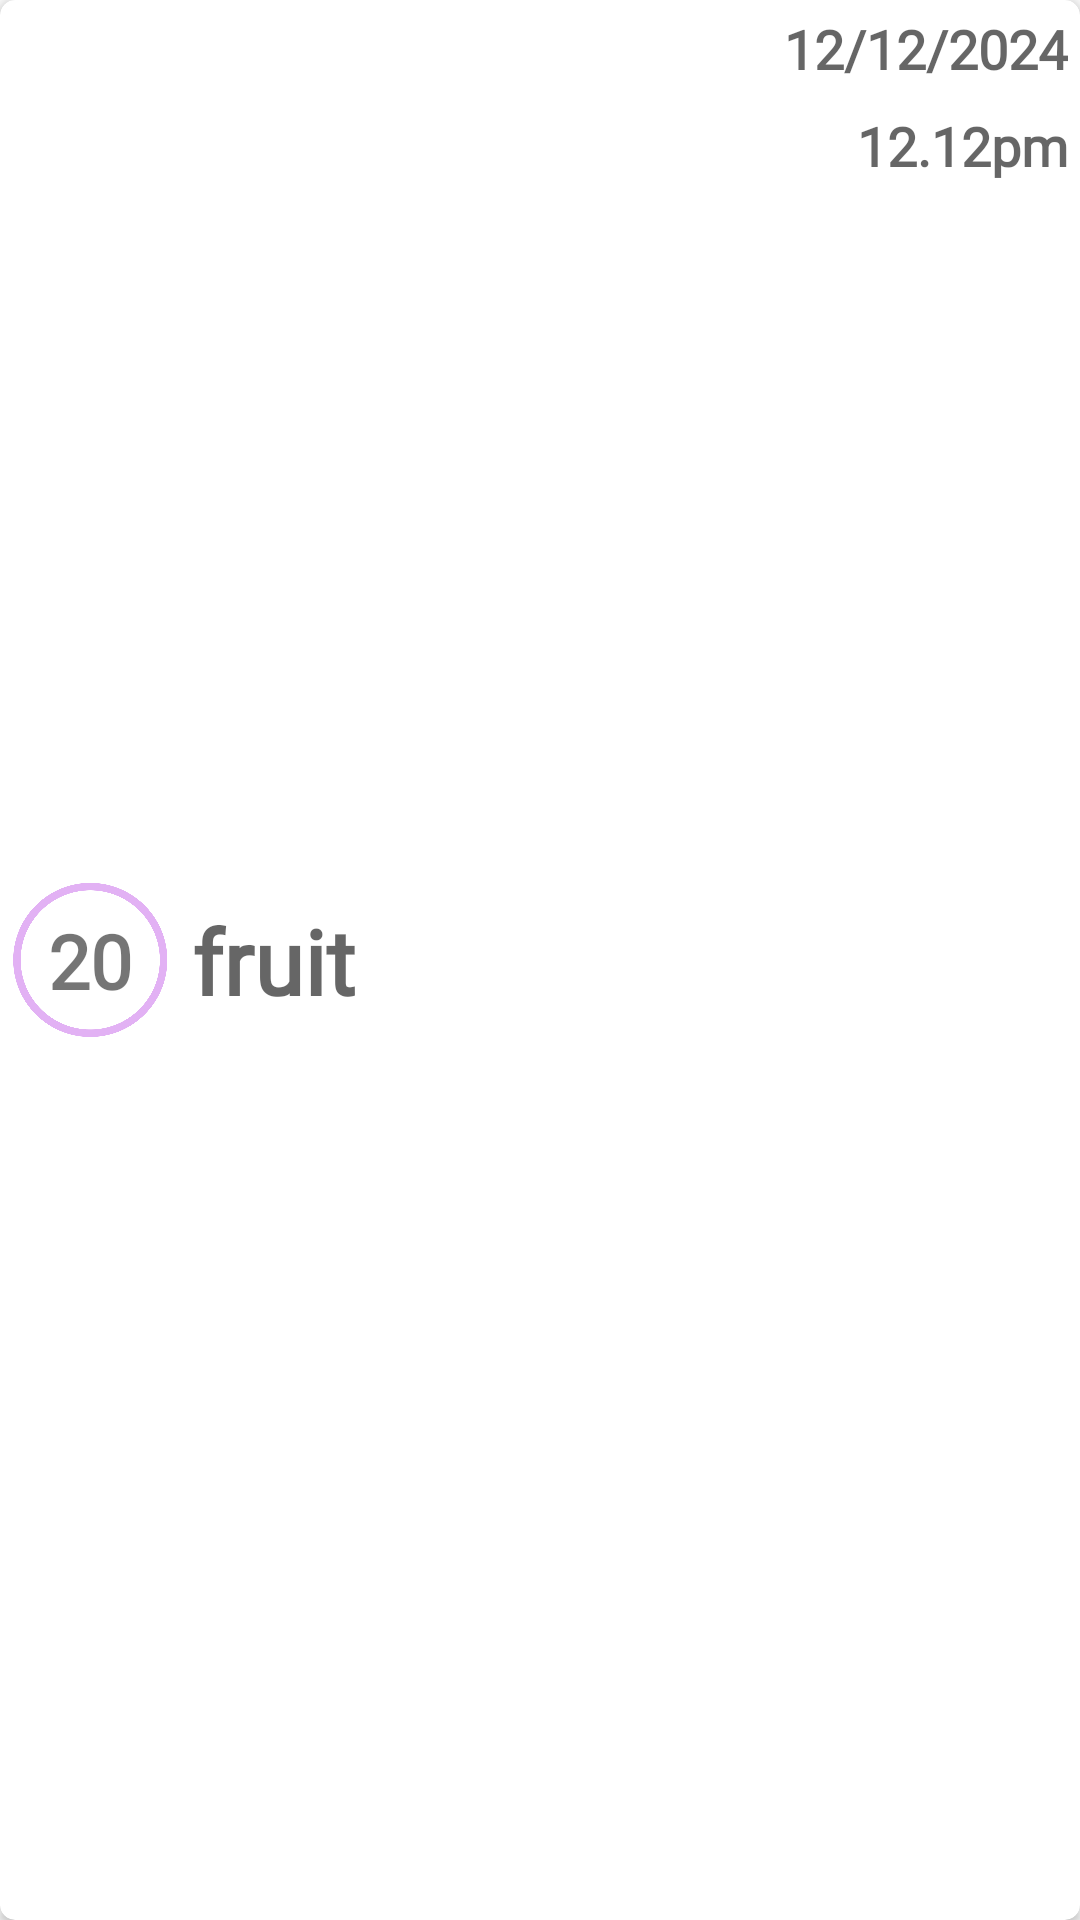

Locate icon controls on the screen. Image size 1080px x 1920px, boxes as box=[x1, y1, x2, y2].
round: box=[13, 883, 167, 1037]
